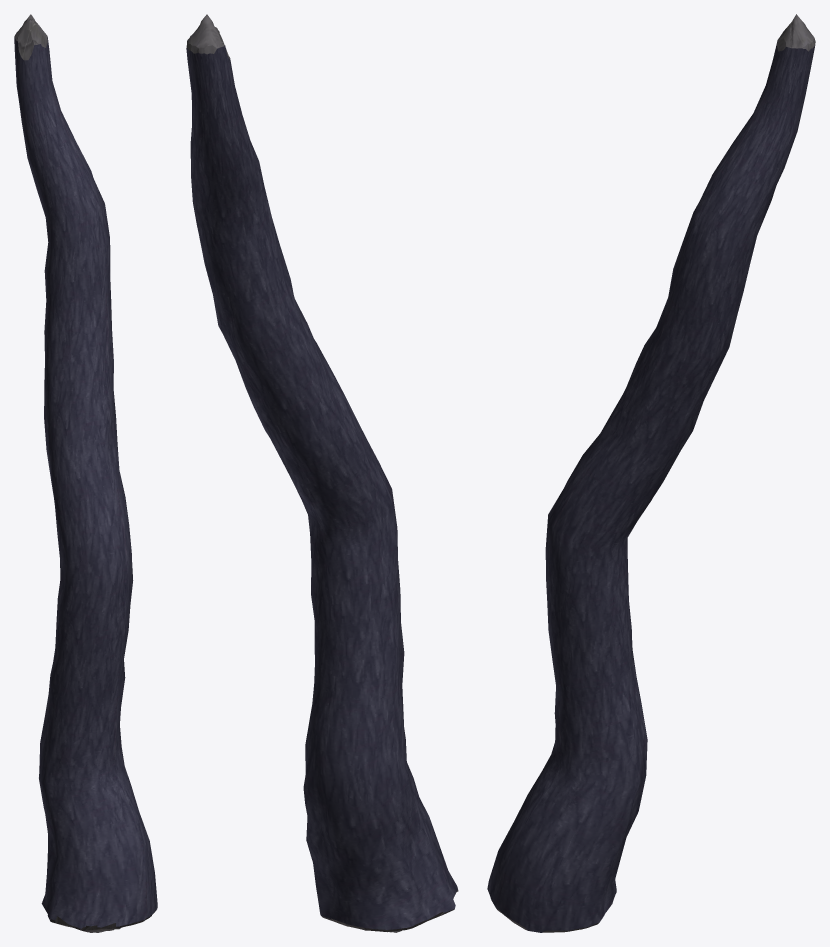
The picture shows the model from 3 angles, left to right: view 1: azimuth 30°, elevation 25°; view 2: azimuth 150°, elevation 25°; view 3: azimuth 270°, elevation 25°; orthographic projection. The views are drawn at different scales.
Parts seen in each view (by area): view 1: SM_Willow_01_full_LOD0; view 2: SM_Willow_01_full_LOD0; view 3: SM_Willow_01_full_LOD0.
Boxes of the visible parts, x1,y1,x2,y2 form: SM_Willow_01_full_LOD0: (14,14,157,932); SM_Willow_01_full_LOD0: (186,14,458,932); SM_Willow_01_full_LOD0: (487,14,815,932).
Bounding box in the file's own units: 1.53 × 9.1 × 2.9.
Materials: 1 (1 with a texture image).
